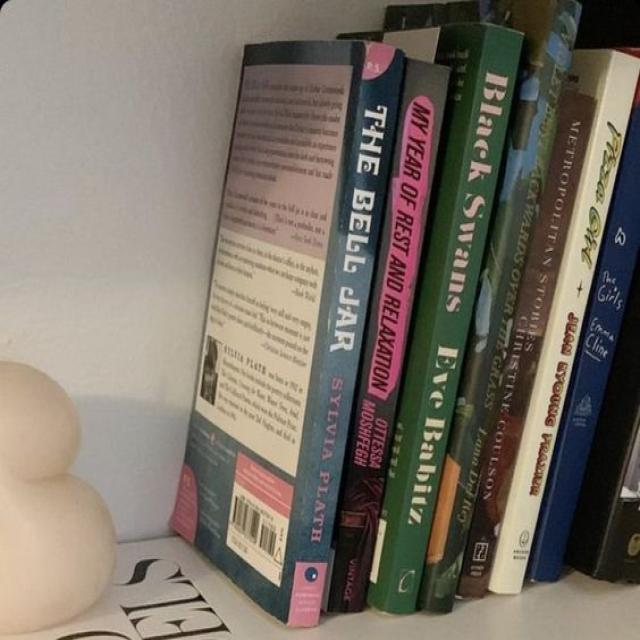book: (426, 0, 584, 615), (384, 23, 524, 613), (493, 51, 640, 596), (285, 40, 409, 626), (457, 93, 598, 599), (331, 55, 449, 615), (530, 116, 640, 582)
